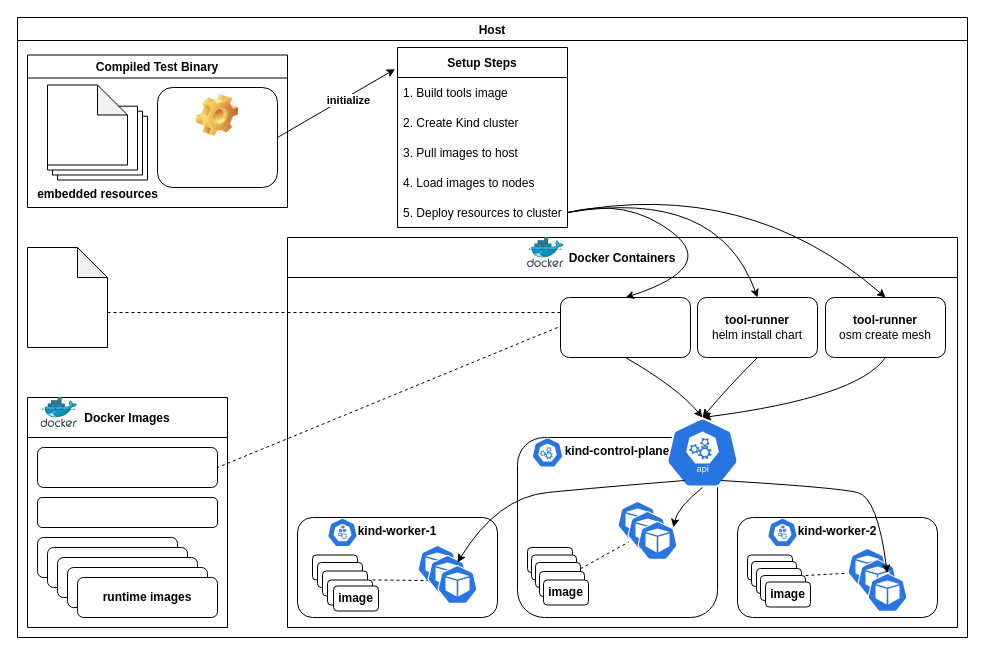
Some shapes in this 985 by 655 pixel diagram are drawn without their labels. The shapes that lost their labels are listed below. From the top down, each one's centre as x and y in pixels, then its label:
point 87,124: Dockerfile
point 217,137: TestMain
point 67,297: kubeconfig
point 625,327: tool-runner kubectl create ns kubectl apply -f <yaml>
point 127,467: aks-periscope-test-tools docker, kind, helm, kubectl, osm
point 127,512: kind-node-image
